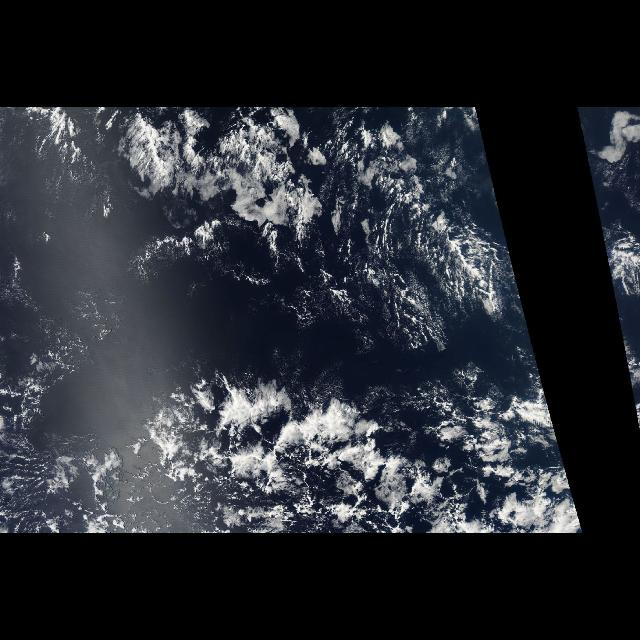Fish: (94, 371, 522, 519), (339, 118, 529, 322)
